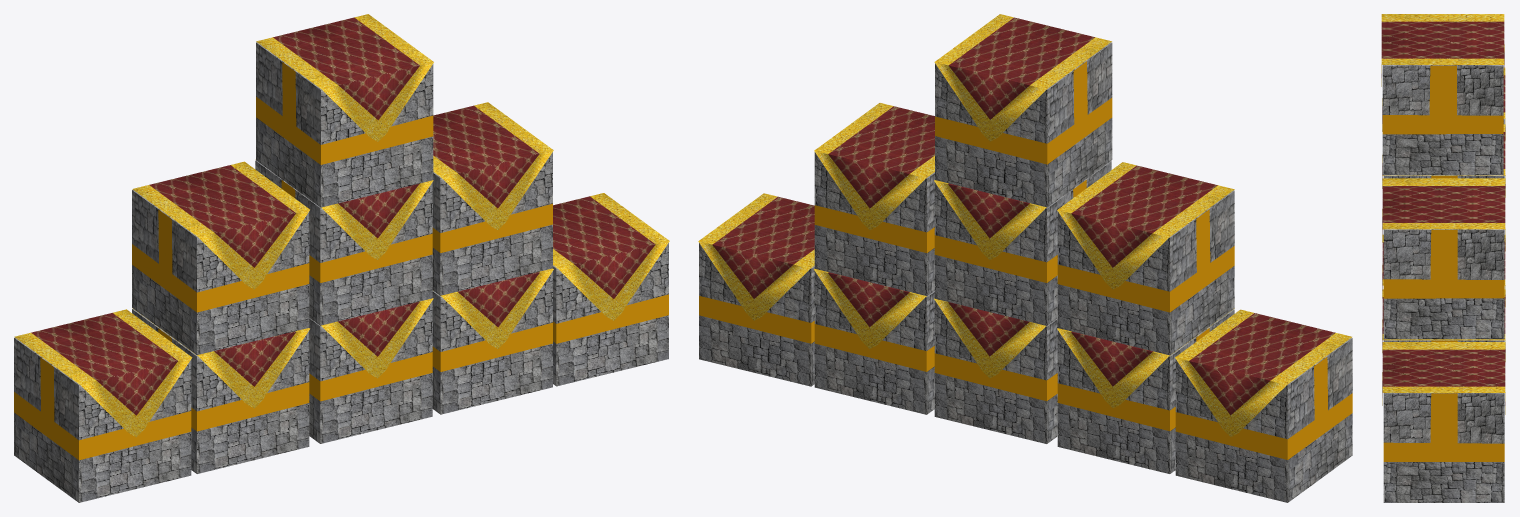
Rendered from cobertura2.fbx.
3 renders of one model, left to right at view 1: azimuth 30°, elevation 25°; view 2: azimuth 150°, elevation 25°; view 3: azimuth 270°, elevation 25°, orthographic. The views are drawn at different scales.
Parts seen in each view (by area): view 1: Obstaculo (×9), Alfombrita (×9), Luces (×9); view 2: Obstaculo (×9), Alfombrita (×9), Luces (×9); view 3: Obstaculo (×5), Alfombrita (×7), Luces (×3).
Part boxes in pixels (x1,y1,x2,y2): Obstaculo (×9): [14, 42, 668, 502]; Alfombrita (×9): [14, 14, 669, 437]; Luces (×9): [14, 62, 668, 460]; Obstaculo (×9): [699, 42, 1352, 502]; Alfombrita (×9): [698, 14, 1351, 436]; Luces (×9): [699, 61, 1352, 459]; Obstaculo (×5): [1382, 65, 1504, 502]; Alfombrita (×7): [1381, 14, 1505, 414]; Luces (×3): [1382, 65, 1504, 461].
Bounding box in the file's own units: 5.78 × 3.32 × 1.13.
4 materials, 3 textured.
